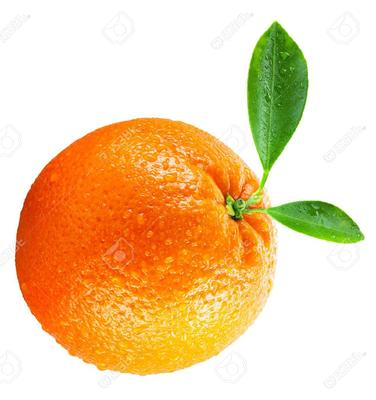orange: (0, 0, 376, 400)
